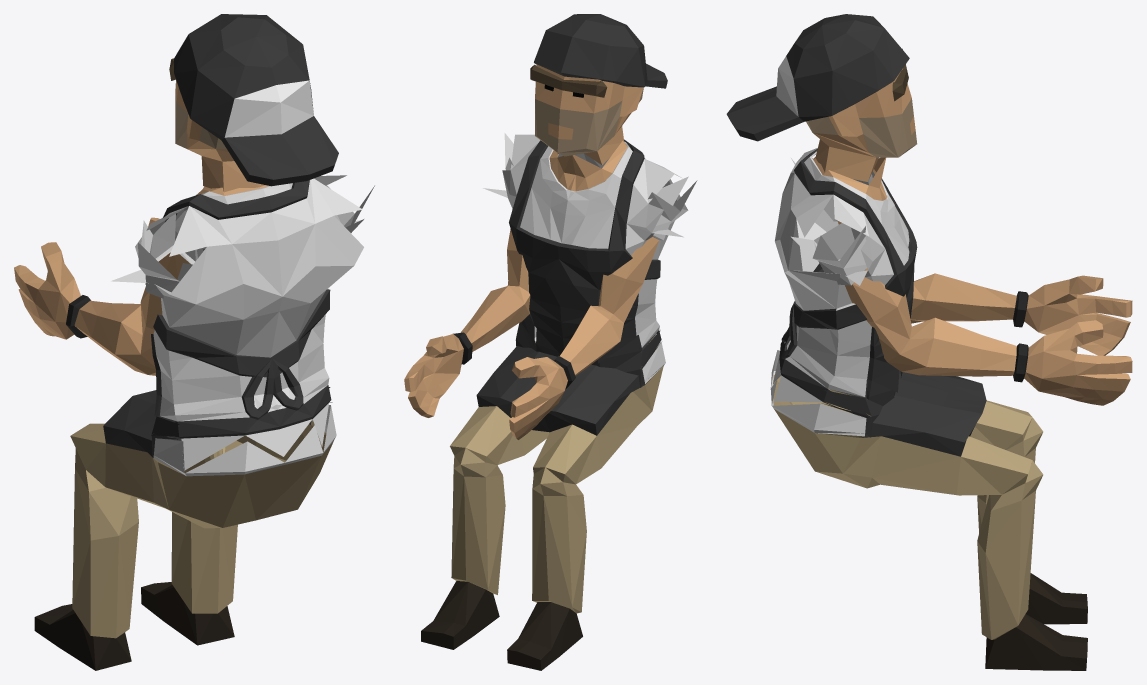
Rendered from Cop_chair.obj.
3 renders of one model, left to right at view 1: azimuth 30°, elevation 25°; view 2: azimuth 150°, elevation 25°; view 3: azimuth 270°, elevation 25°, orthographic. The views are drawn at different scales.
Visible parts, largest first — view 1: Cop_chair; view 2: Cop_chair; view 3: Cop_chair.
Boxes of the visible parts, left/top/right/bottom form: Cop_chair: left=14, top=14, right=374, bottom=670; Cop_chair: left=404, top=14, right=697, bottom=670; Cop_chair: left=726, top=14, right=1132, bottom=670.
Bounding box in the file's own units: 0.5658 × 1.49 × 0.8873.
Materials: 1 (1 with a texture image).
